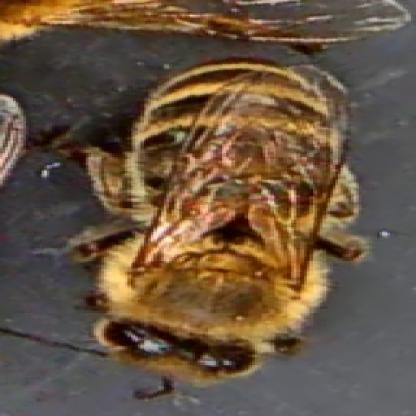bee: (132, 60, 316, 383), (17, 0, 393, 47)
